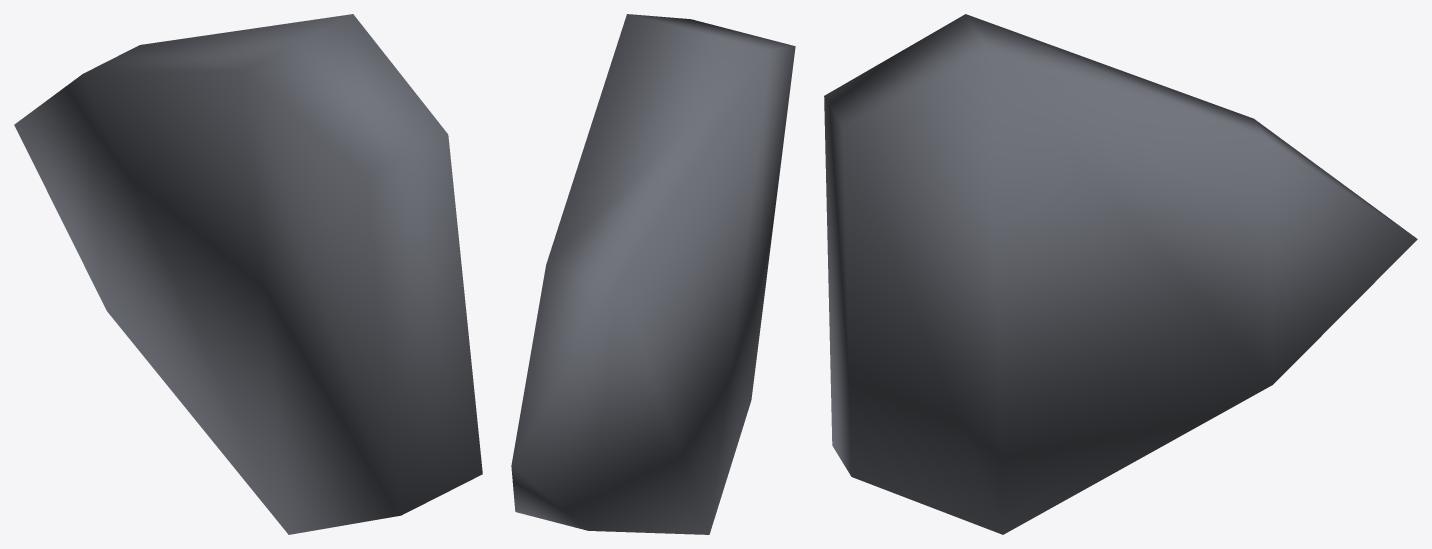
The model's file is Char_FL_BackFin.FBX.
3 renders of one model, left to right at view 1: azimuth 30°, elevation 25°; view 2: azimuth 150°, elevation 25°; view 3: azimuth 270°, elevation 25°, orthographic. The views are drawn at different scales.
Parts seen in each view (by area): view 1: Box002; view 2: Box002; view 3: Box002.
Part boxes in pixels (bbox=[...]): Box002: bbox=[14, 14, 482, 534]; Box002: bbox=[511, 14, 795, 534]; Box002: bbox=[824, 14, 1417, 534].
Size of the model in its own units: 1.69 by 4.31 by 4.96.
